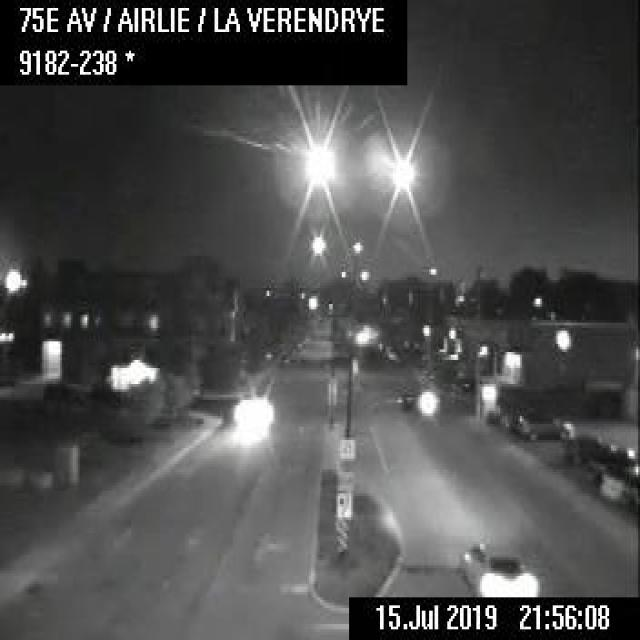vehicle: (456, 538, 536, 594), (512, 404, 574, 442), (558, 432, 613, 462), (598, 462, 637, 502)
